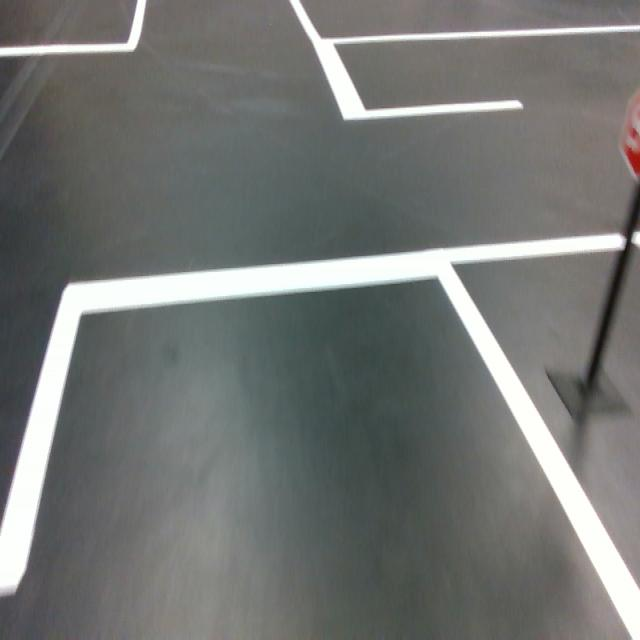stop-sign: (616, 83, 640, 185)
